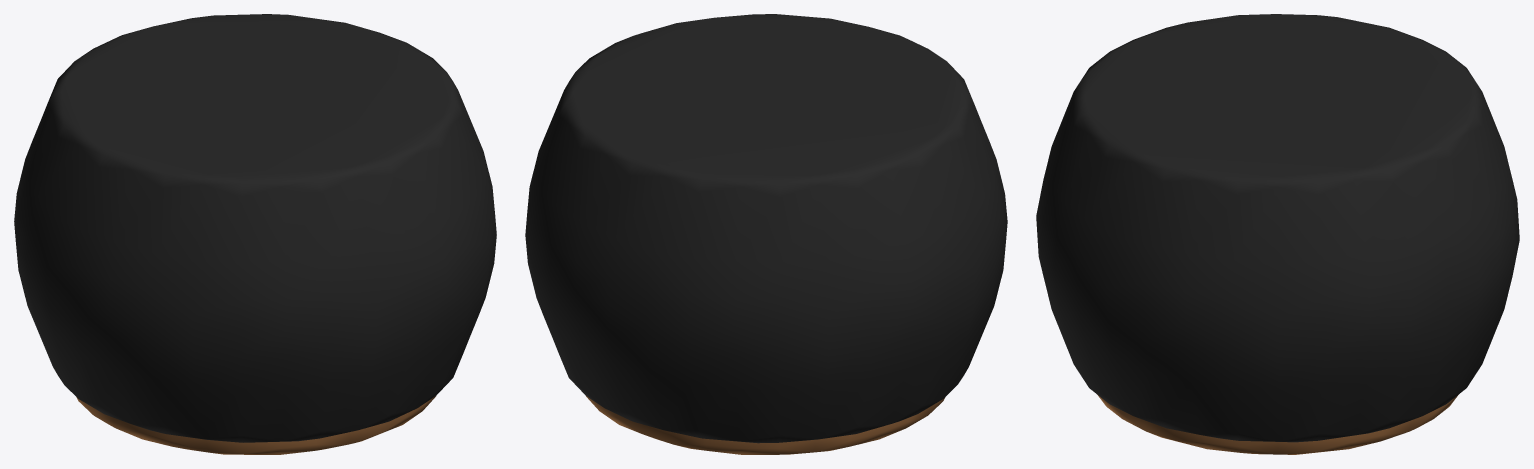
The model's file is stool_05_leather_black.fbx.
3 views of the same model, side by side, from view 1: azimuth 30°, elevation 25°; view 2: azimuth 150°, elevation 25°; view 3: azimuth 270°, elevation 25° (orthographic).
Visible parts, largest first — view 1: stool_05_leather_black; view 2: stool_05_leather_black; view 3: stool_05_leather_black.
Part boxes in pixels (x1,y1,x2,y2): stool_05_leather_black: [14, 14, 496, 454]; stool_05_leather_black: [525, 14, 1007, 454]; stool_05_leather_black: [1036, 14, 1519, 454].
Size of the model in its own units: 74.92 by 48.55 by 74.92.
2 materials, 2 textured.
